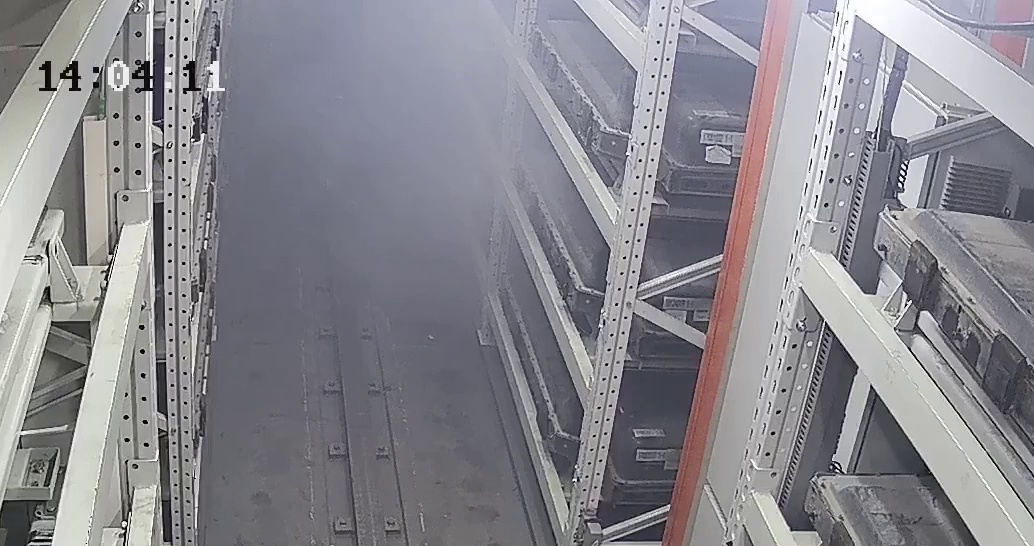smoke: (312, 19, 509, 249)
